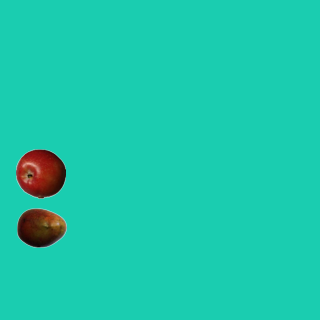Apple Braeburn: (15, 148, 65, 198)
Mango Red: (16, 202, 66, 252)
